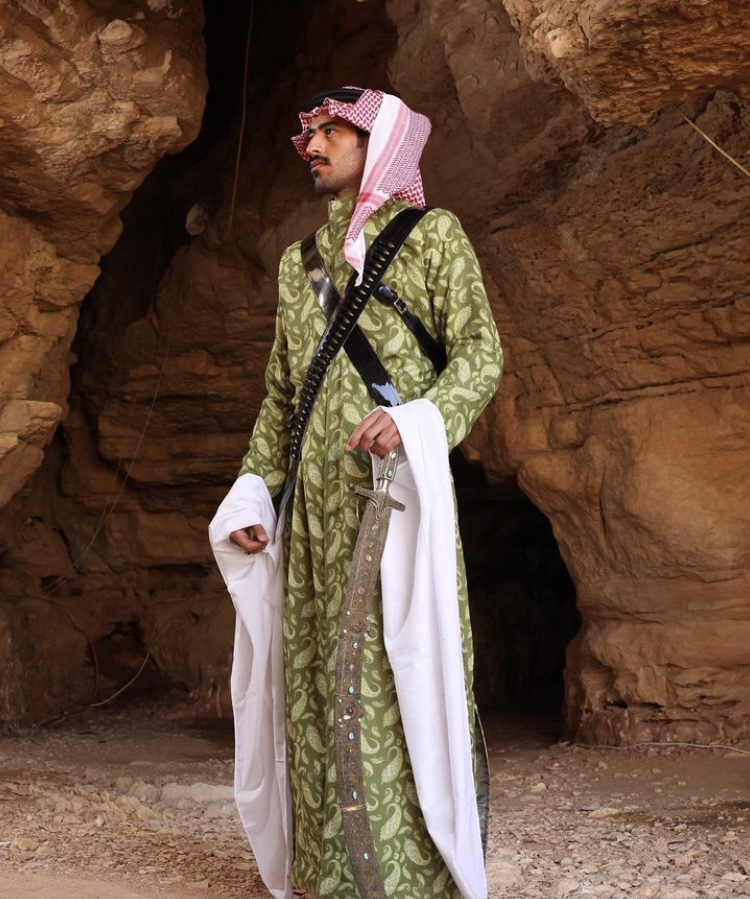Saudi_Founding_Day: (200, 74, 506, 899)
